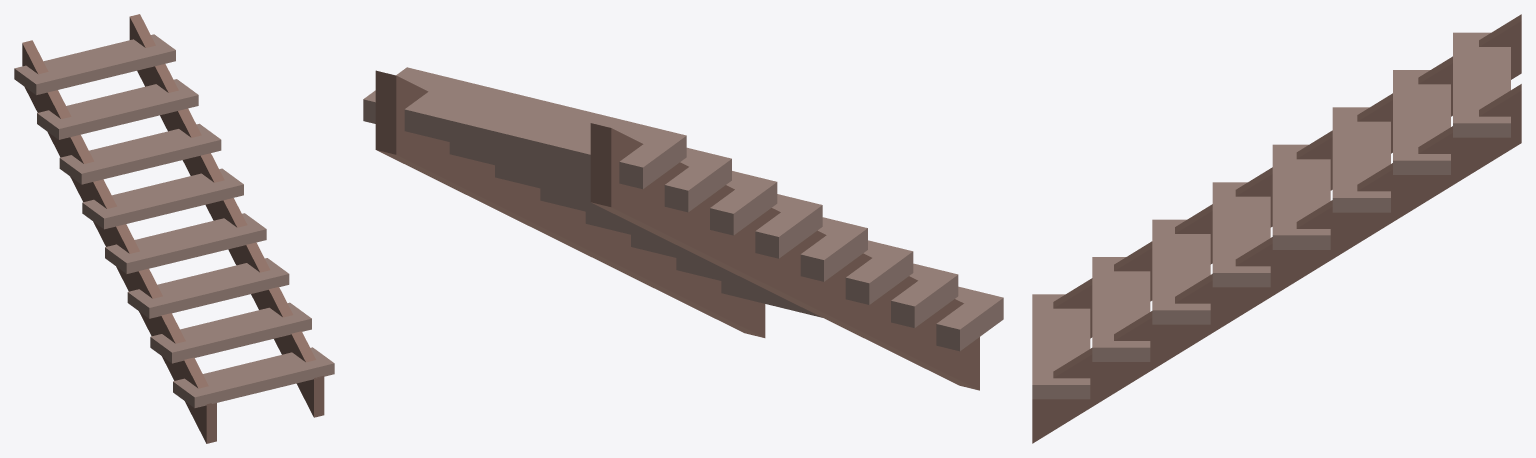
Rendered from prop_076.fbx.
The picture shows the model from 3 angles, left to right: view 1: azimuth 30°, elevation 25°; view 2: azimuth 150°, elevation 25°; view 3: azimuth 270°, elevation 25°; orthographic projection. The views are drawn at different scales.
Visible parts, largest first — view 1: prop.076; view 2: prop.076; view 3: prop.076.
Part boxes in pixels (x1,y1,x2,y2): prop.076: [14, 14, 334, 443]; prop.076: [363, 67, 1003, 390]; prop.076: [1032, 14, 1521, 443].
Size of the model in its own units: 191 by 347 by 436.
1 material, 1 textured.
